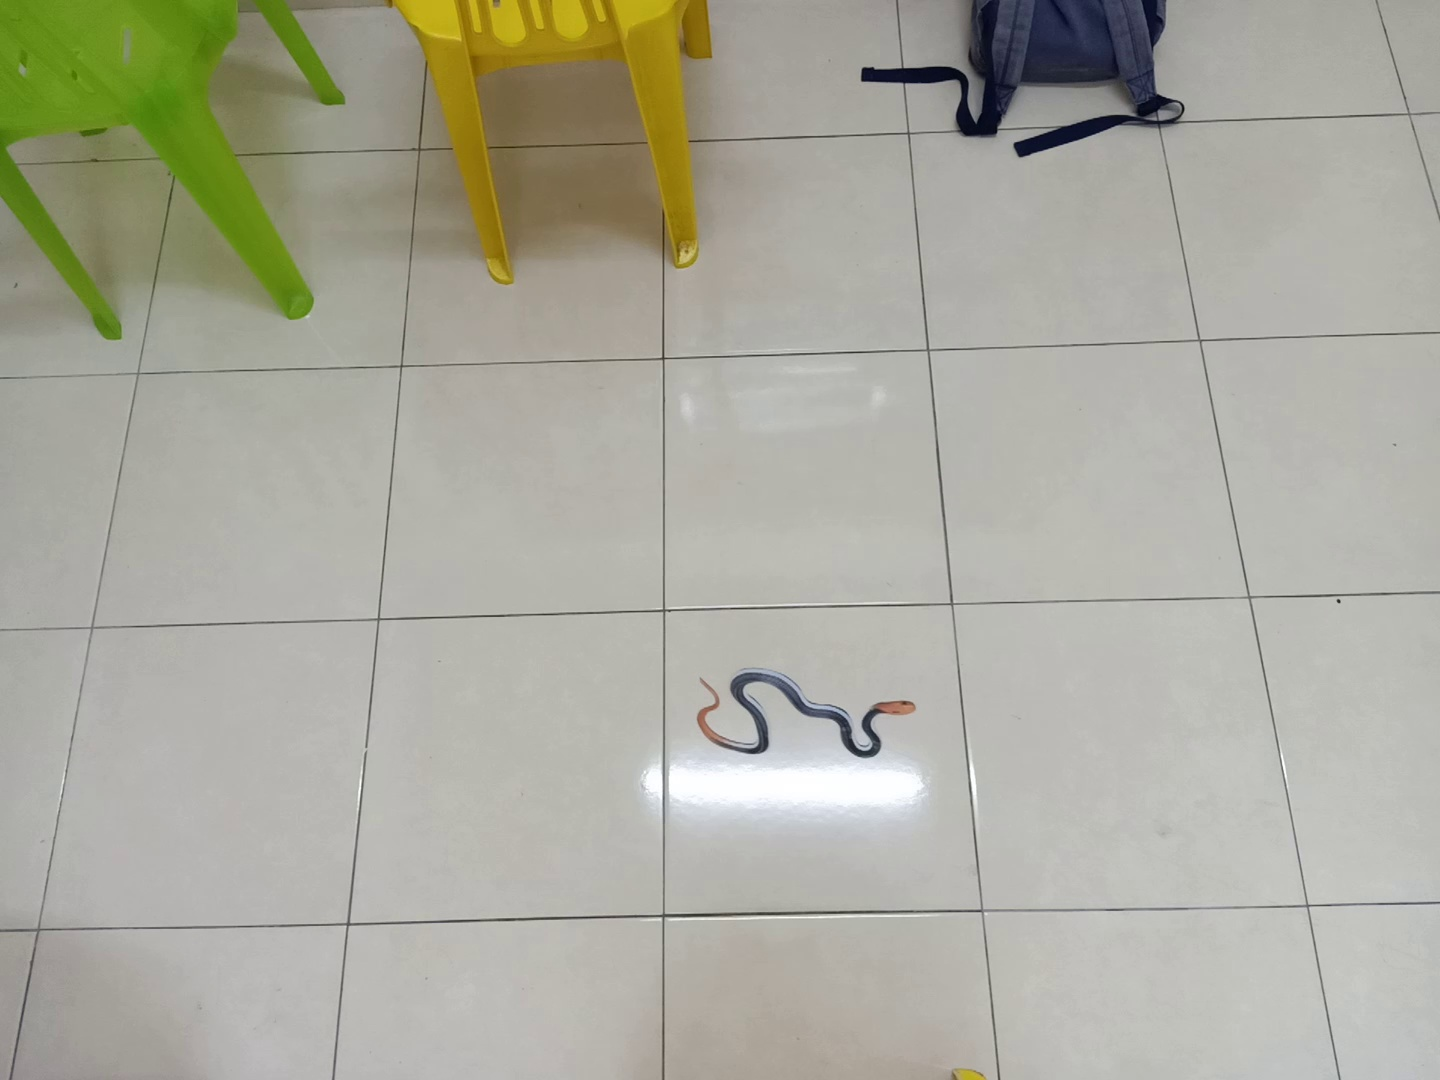snake: (685, 661, 927, 766)
